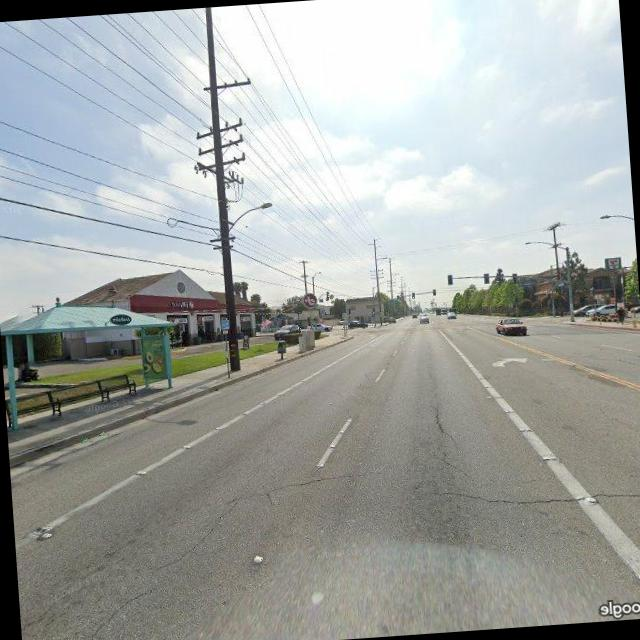crack: (58, 511, 237, 640), (425, 469, 640, 522), (228, 464, 388, 504), (428, 396, 466, 478)
